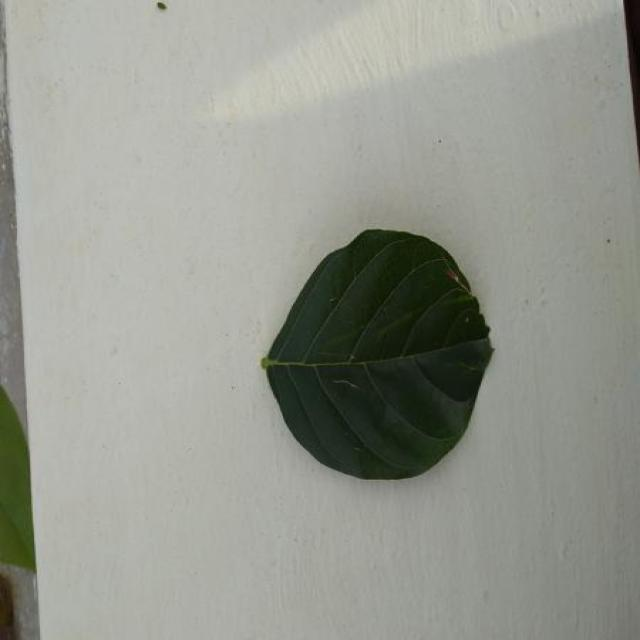leaf: (260, 227, 494, 480)
